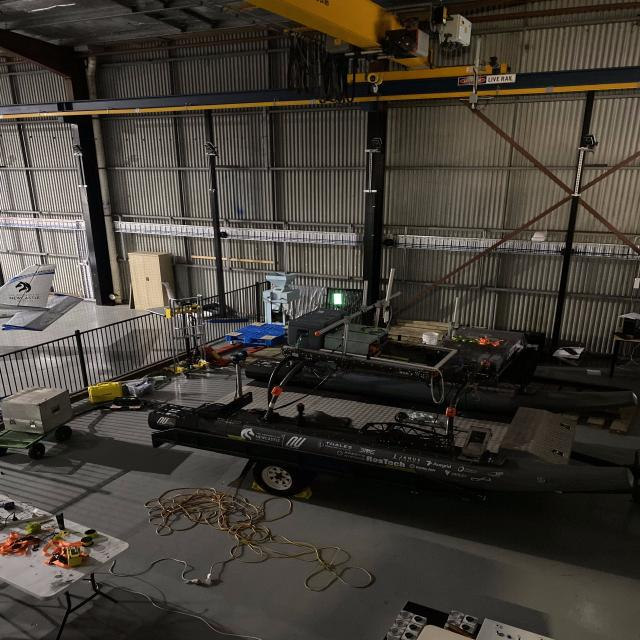matrix: (332, 292, 344, 305)
